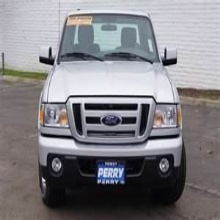no damage: (37, 8, 187, 206)
